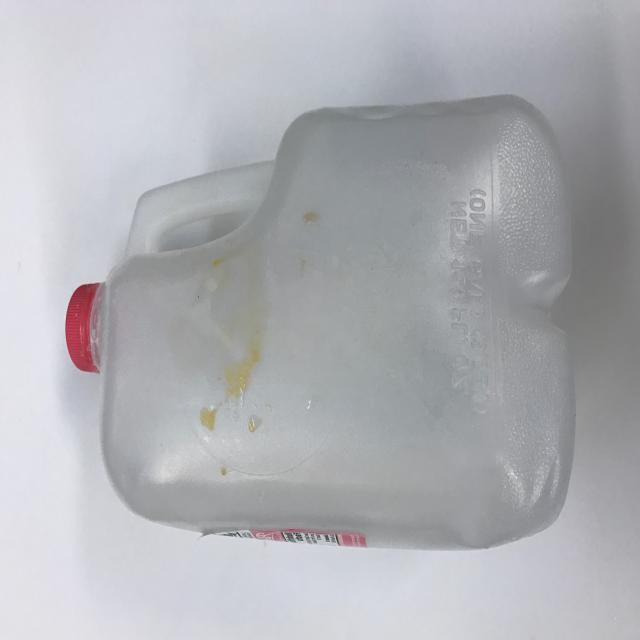plastic: (65, 92, 577, 550)
